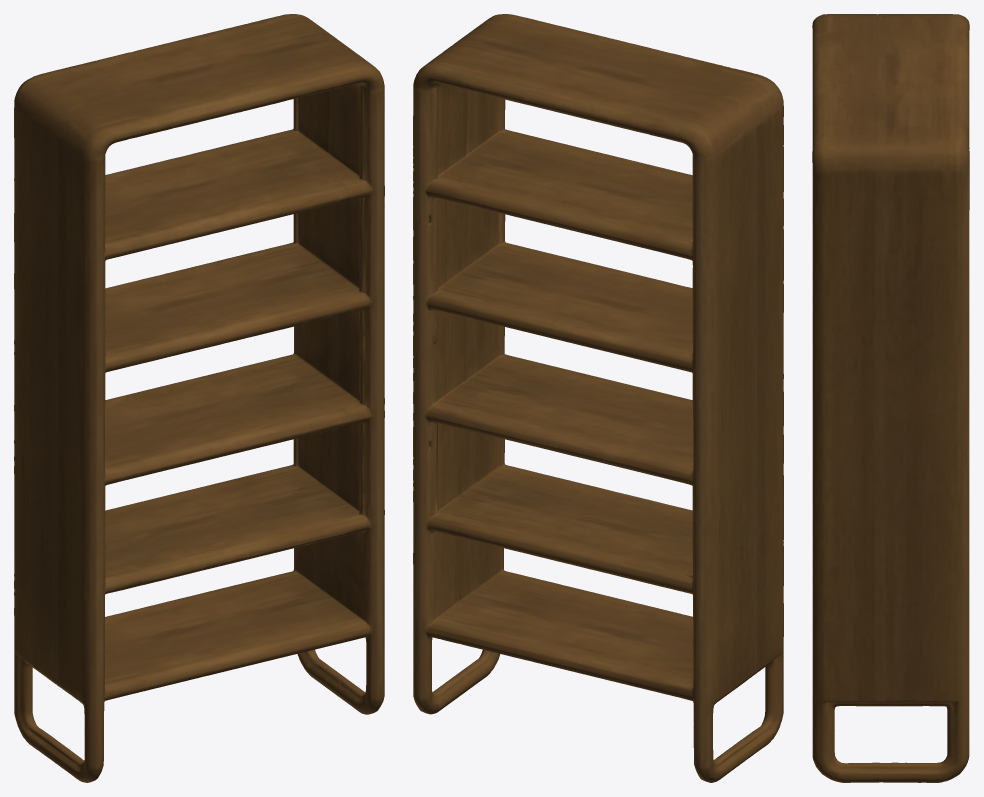
The model's file is rounded-wood-bookcase.glb.
3 views of the same model, side by side, from view 1: azimuth 30°, elevation 25°; view 2: azimuth 150°, elevation 25°; view 3: azimuth 270°, elevation 25° (orthographic). The views are drawn at different scales.
Visible parts, largest first — view 1: world; view 2: world; view 3: world.
Part boxes in pixels (x1,y1,x2,y2): world: (14, 14, 384, 782); world: (413, 14, 783, 782); world: (812, 14, 969, 782).
Bounding box in the file's own units: 0.478 × 1 × 0.2236.
Materials: 1 (1 with a texture image).
